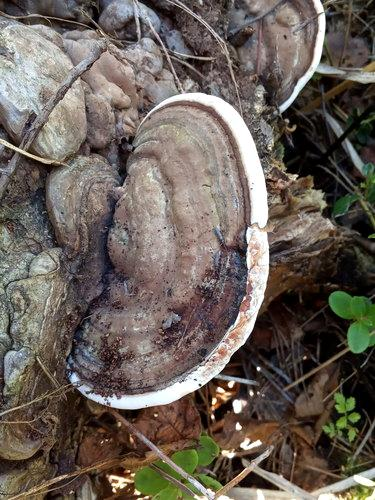Ganoderma - Fruit Body: (49, 91, 274, 411), (234, 0, 321, 91)
